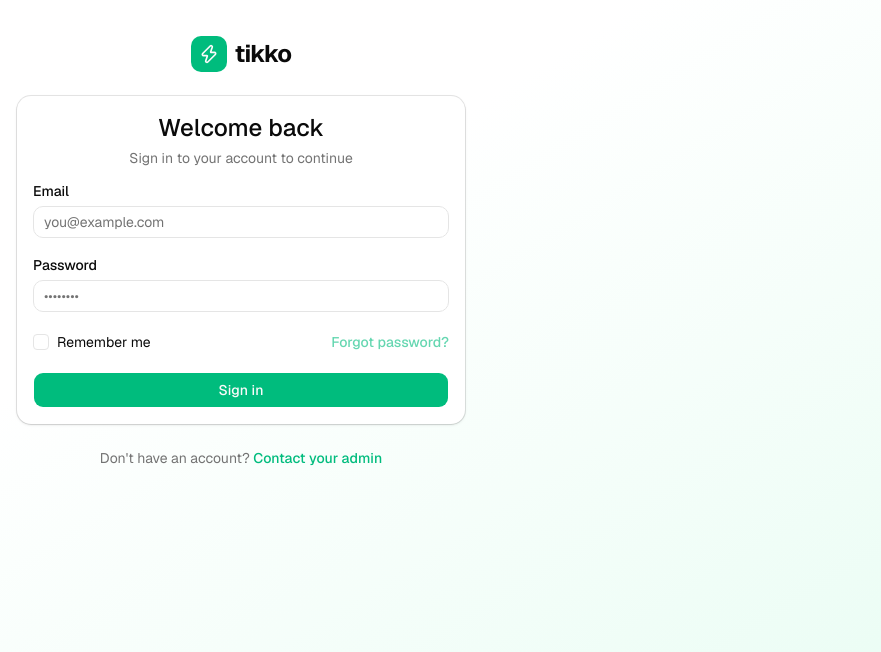
Login page › shows an error message on 401 and does not redirect
The width and height of the screenshot is (881, 652).
Step 1. Type "wrong@example.com" into the field labelled "Email" → coordinates (241, 222), box [33,206,449,238]
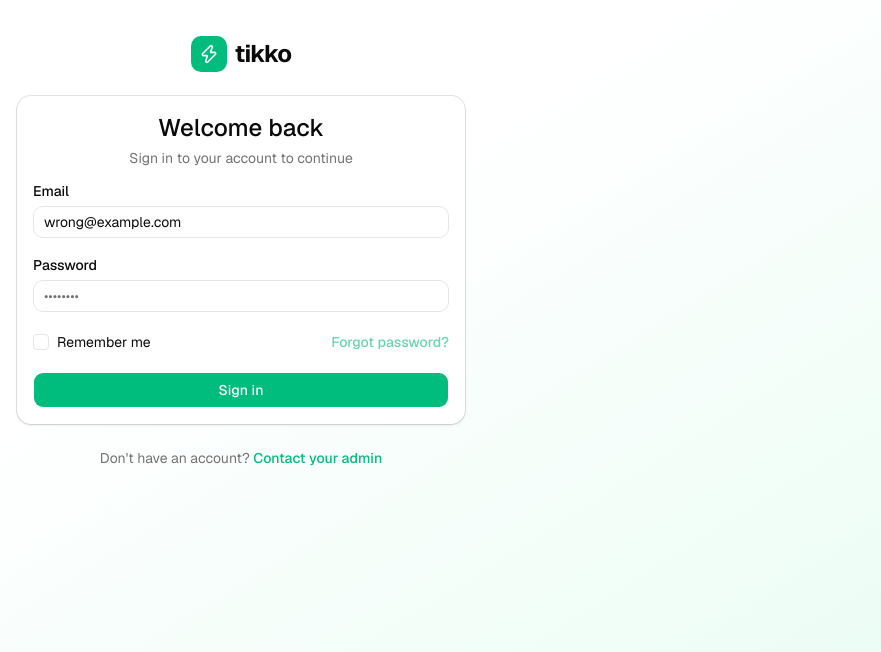
Step 2. Type "nope" into the password field labelled "Password" → coordinates (241, 296), box [33,280,449,312]
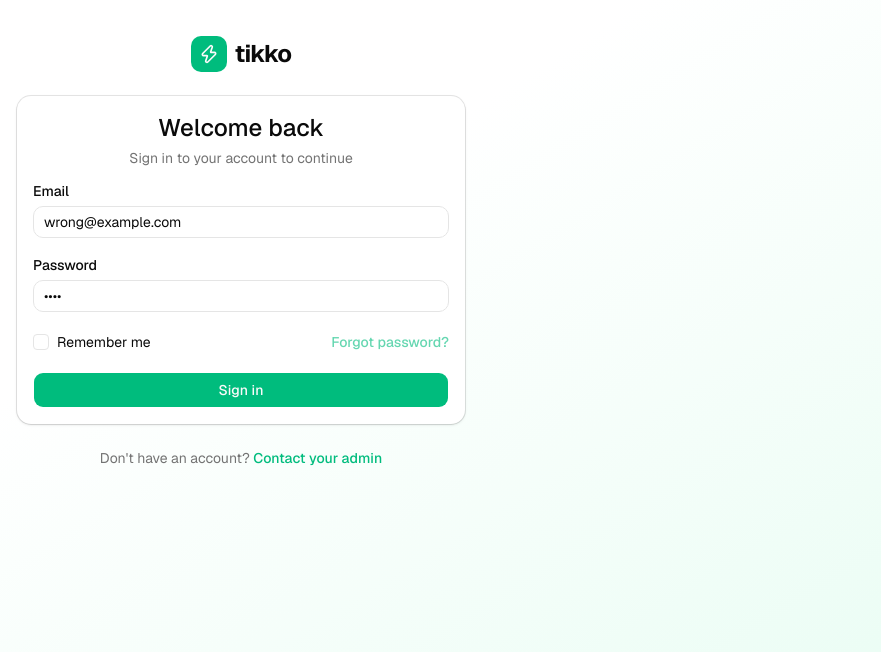
Step 3. Click the button "Sign in" → coordinates (241, 390), box [33,372,449,408]
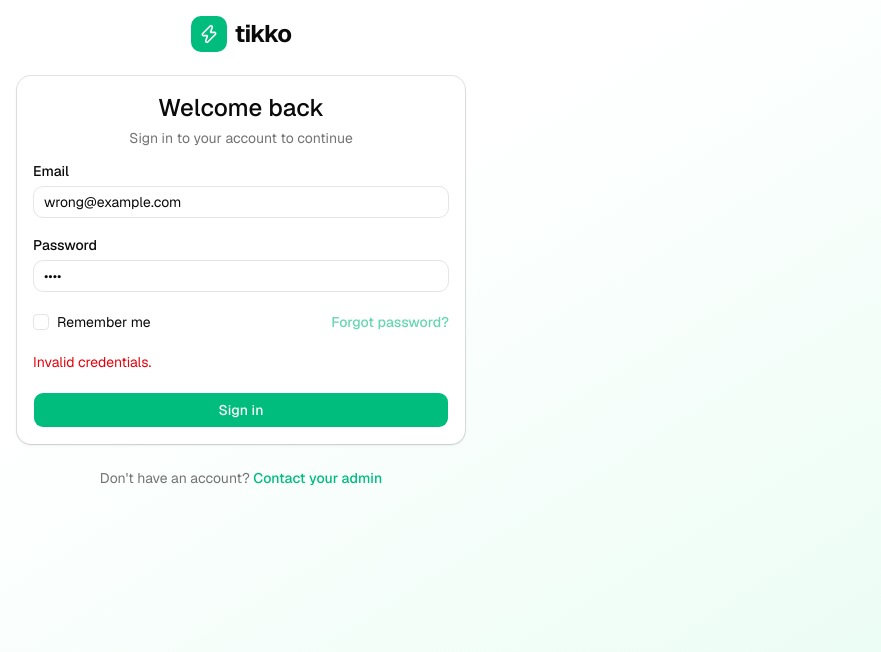
Now the text "Invalid credentials." is shown, box [33,353,151,371]
